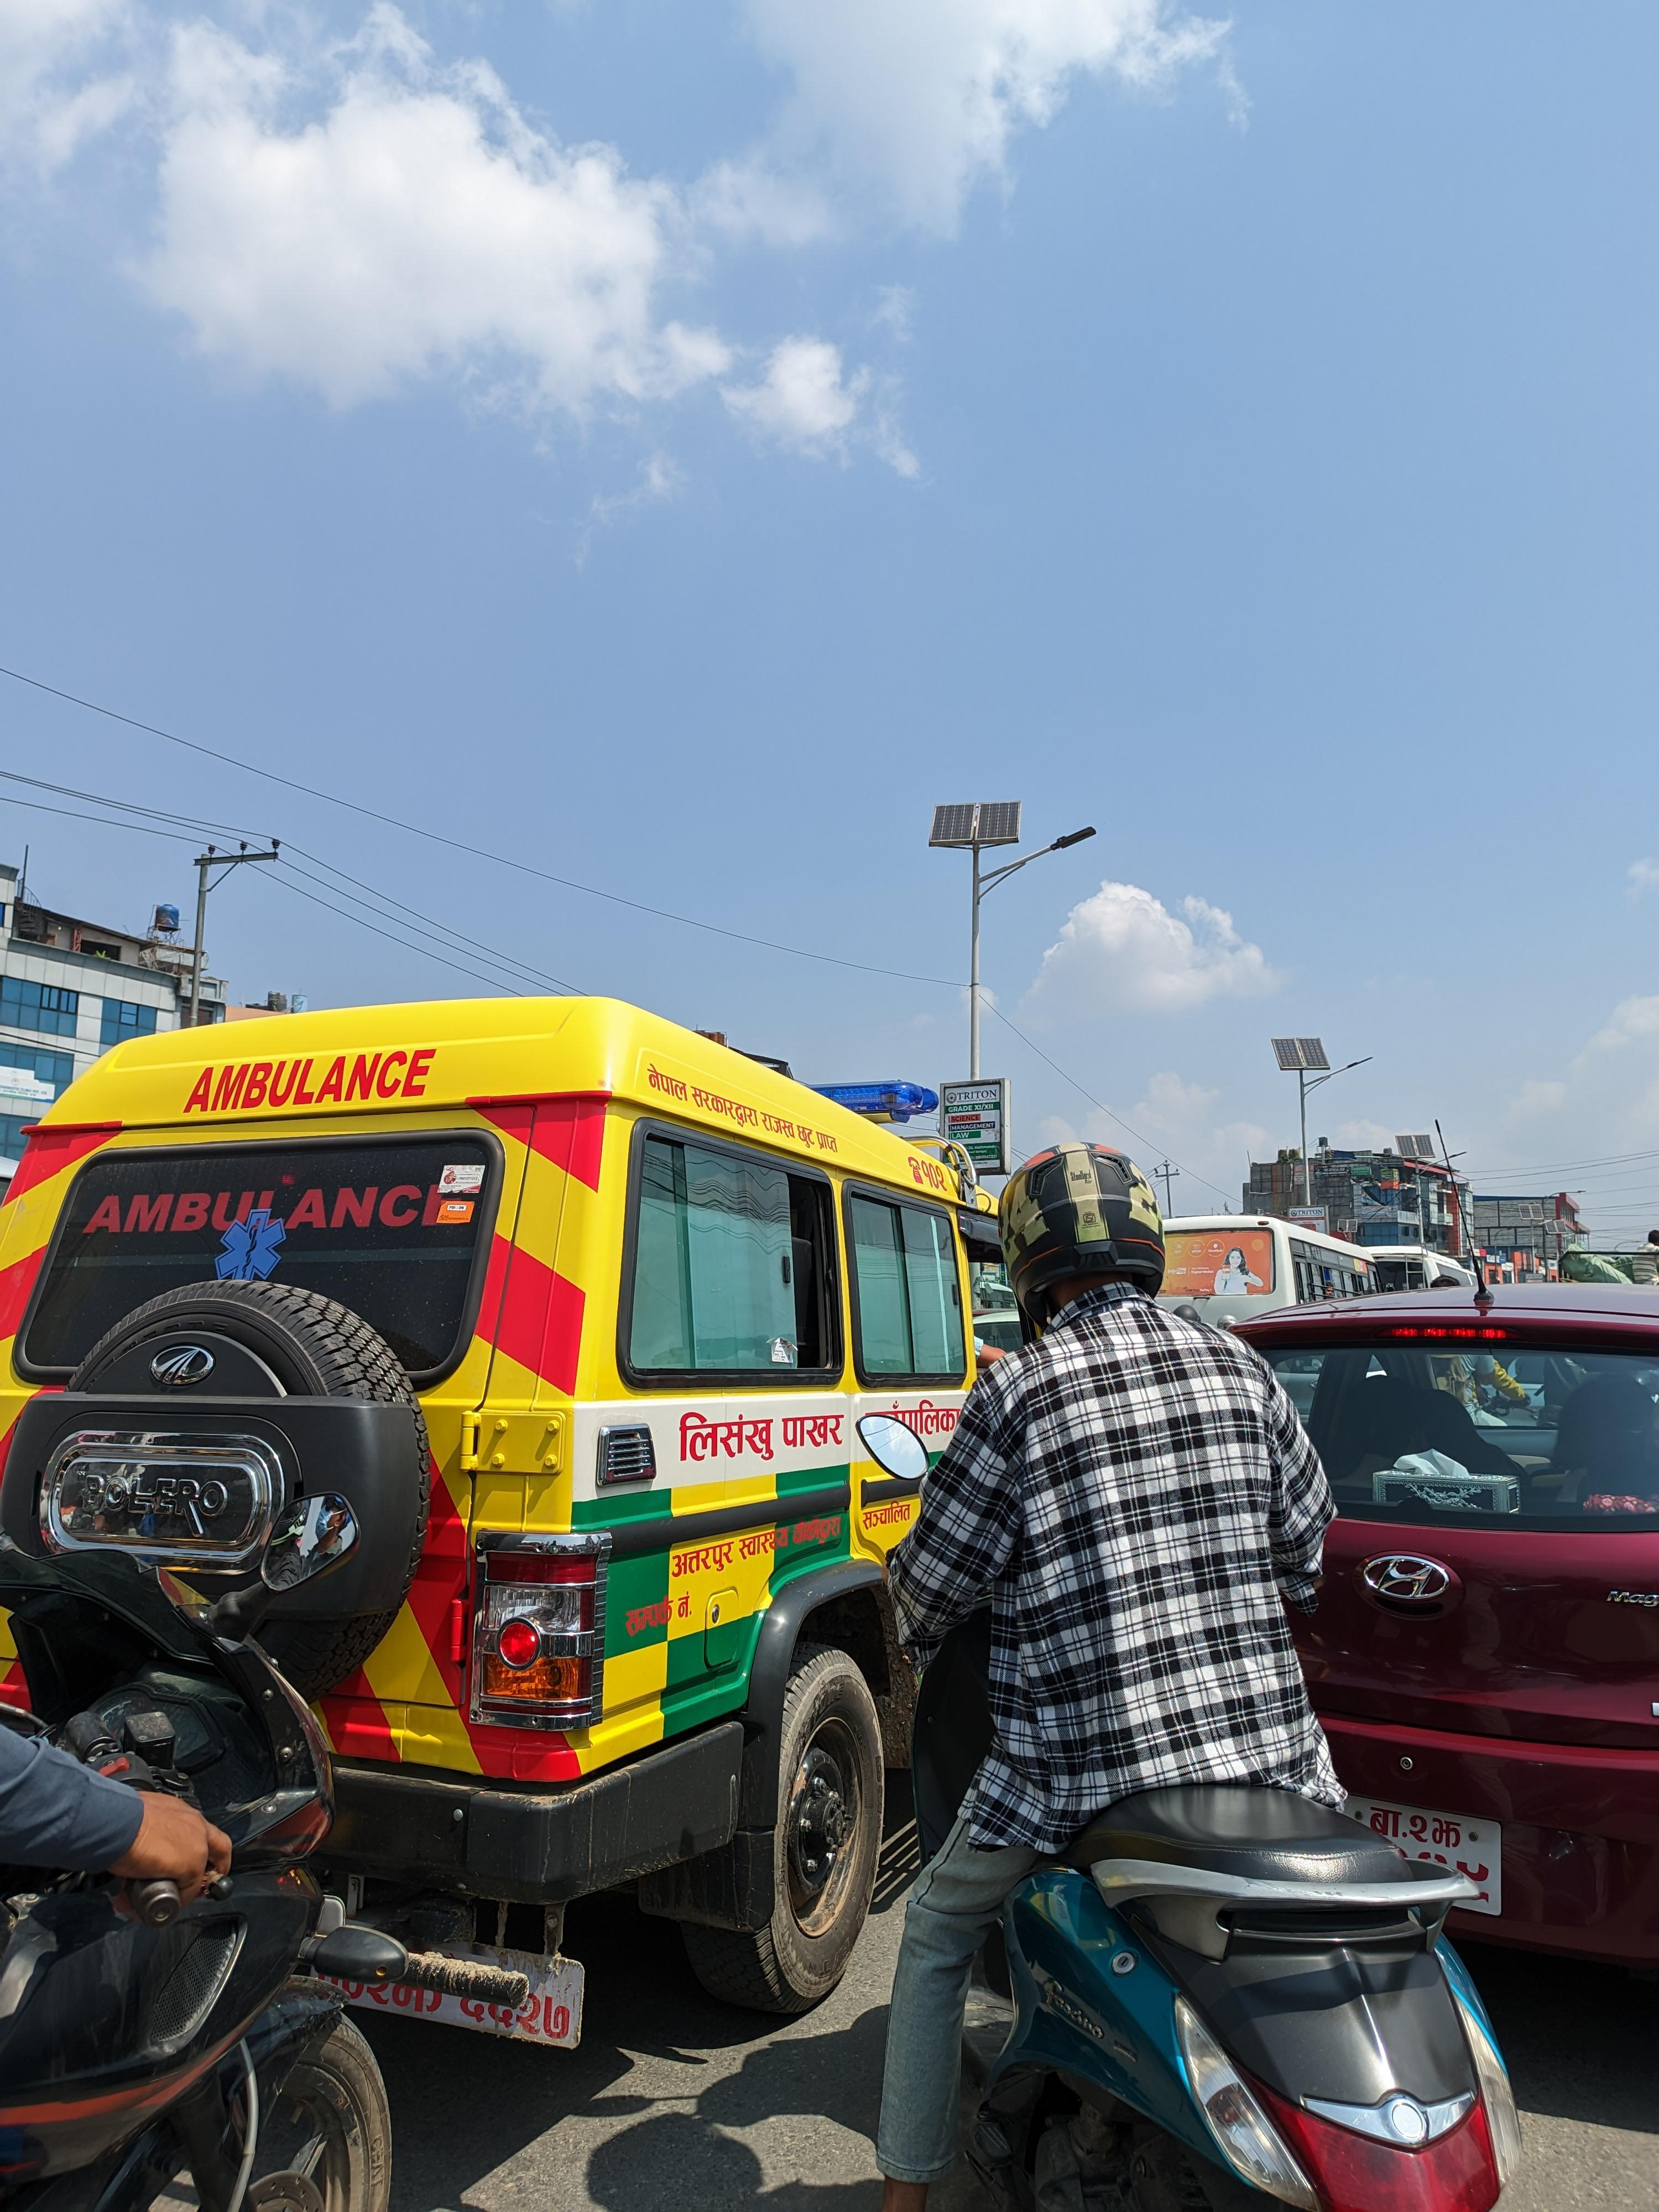ambulance: (0, 982, 1026, 2055)
car: (1192, 1280, 1659, 2013)
